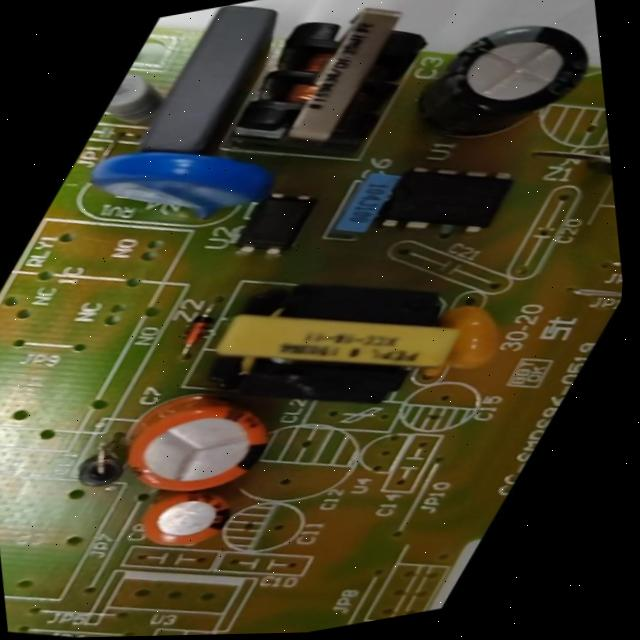Cap1: (87, 367, 309, 521)
Cap2: (118, 474, 249, 563)
Cap3: (393, 0, 615, 164)
MOSFET: (367, 145, 531, 253)
Mov: (65, 115, 295, 246)
Resistor: (94, 65, 178, 131)
Transformer: (174, 249, 491, 447), (205, 0, 463, 169)
